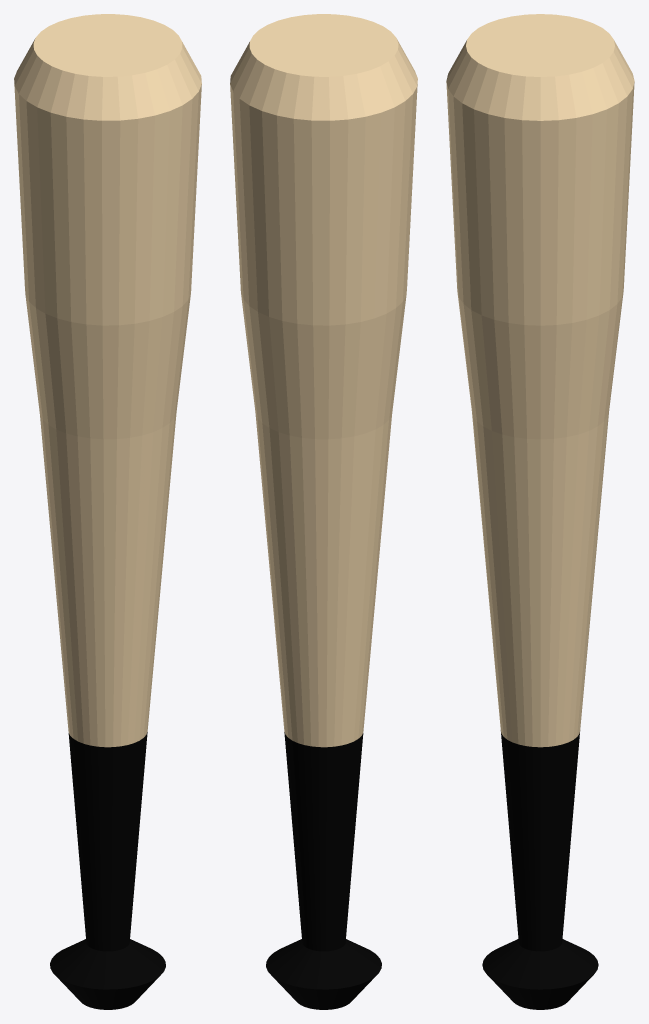
Rendered from baseballbat.gltf.
3 views of the same model, side by side, from view 1: azimuth 30°, elevation 25°; view 2: azimuth 150°, elevation 25°; view 3: azimuth 270°, elevation 25° (orthographic).
Visible parts, largest first — view 1: 円柱; view 2: 円柱; view 3: 円柱.
Boxes of the visible parts, x1,y1,x2,y2 form: 円柱: (14,14,201,1009); 円柱: (230,14,417,1009); 円柱: (446,14,634,1009).
Size of the model in its own units: 1.51 by 8.4 by 1.51.
